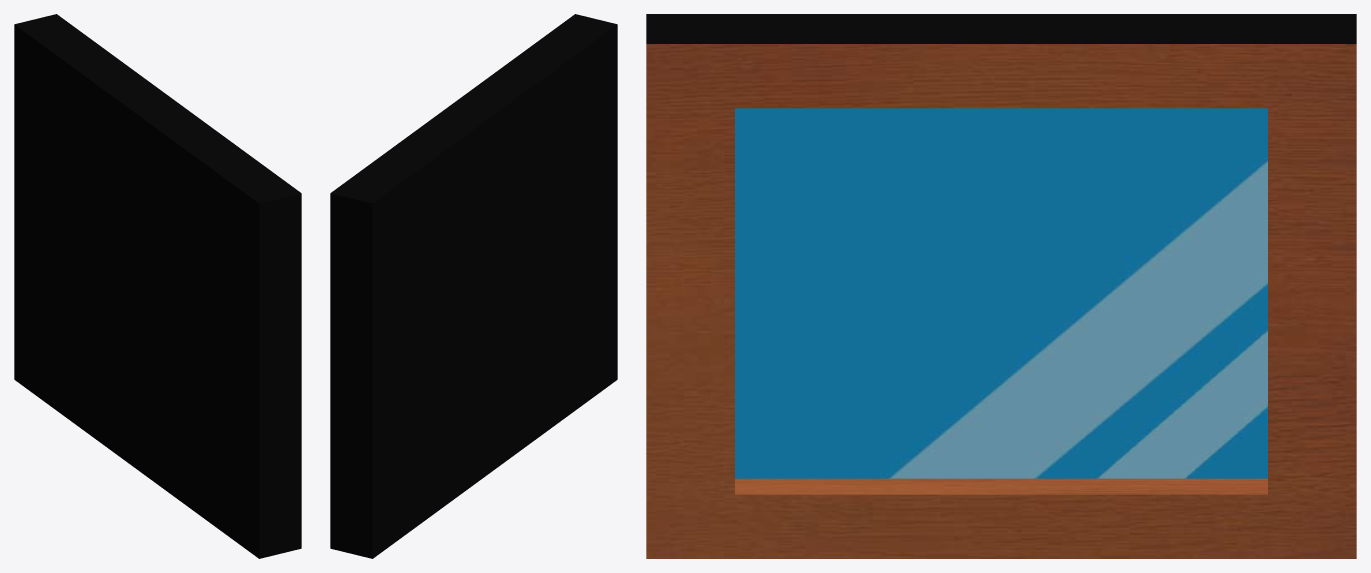
File: kittin001.obj
3 views of the same model, side by side, from view 1: azimuth 30°, elevation 25°; view 2: azimuth 150°, elevation 25°; view 3: azimuth 270°, elevation 25° (orthographic). The views are drawn at different scales.
Visible parts, largest first — view 1: 立方体; view 2: 立方体; view 3: 立方体.
Boxes of the visible parts, bbox=[...] form: 立方体: bbox=[14, 14, 301, 558]; 立方体: bbox=[330, 14, 617, 558]; 立方体: bbox=[646, 14, 1356, 558].
Size of the model in its own units: 1 by 8 by 10.
1 material, 1 textured.
